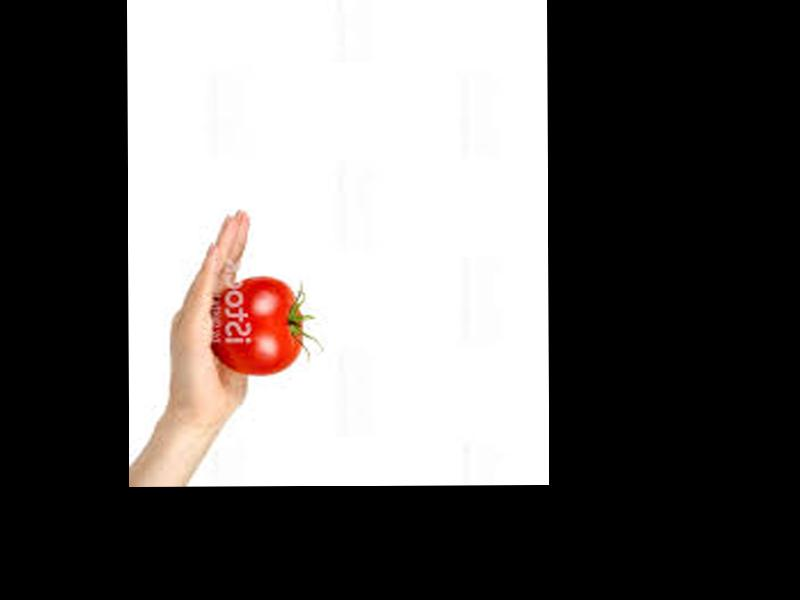Tomato: (212, 278, 305, 376)
